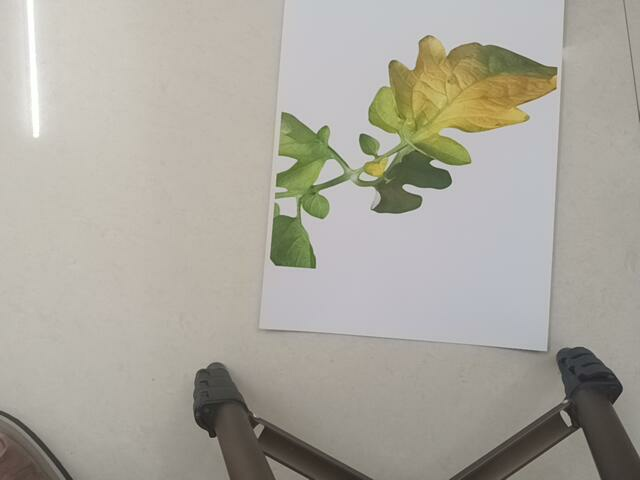Tomamto_Yellow_Disease: (276, 31, 566, 291)
